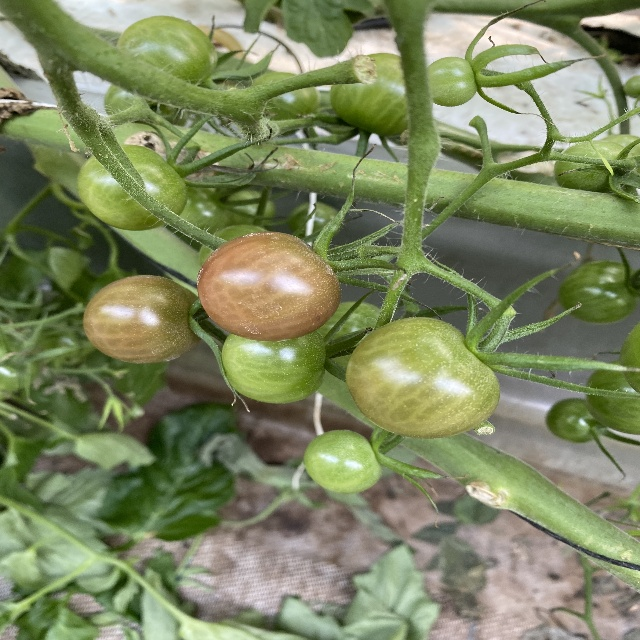l_green: (78, 145, 186, 232), (222, 328, 327, 405), (118, 15, 219, 85), (330, 54, 410, 138), (303, 429, 382, 495), (558, 260, 638, 324), (242, 72, 321, 136), (318, 301, 395, 361), (556, 139, 636, 195), (583, 360, 640, 435), (545, 397, 607, 442), (425, 56, 478, 107)
l_half_ripened: (344, 315, 502, 438), (197, 230, 343, 342), (83, 275, 203, 363)
